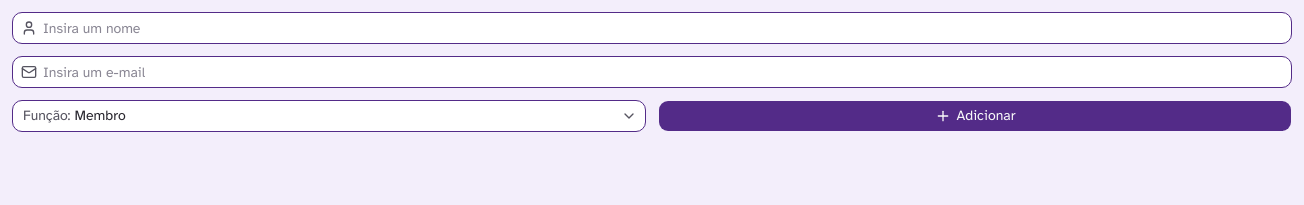
Test: AddMemberForm › mostra o erro de cada campo ao enviar vazio, sem entregar nada
Click the button "Adicionar".
click(975, 116)  # box [658,100,1292,132]
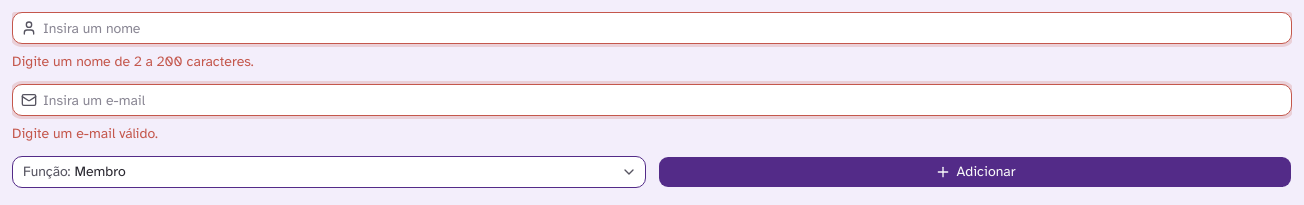
Expected: the text "Digite um nome de 2 a 200 caracteres." is shown, [12,53,254,70]
Expected: the text "Digite um e-mail válido." is shown, [12,125,158,142]
